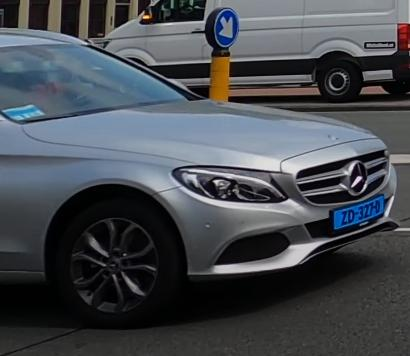license-plate: (331, 195, 387, 233)
